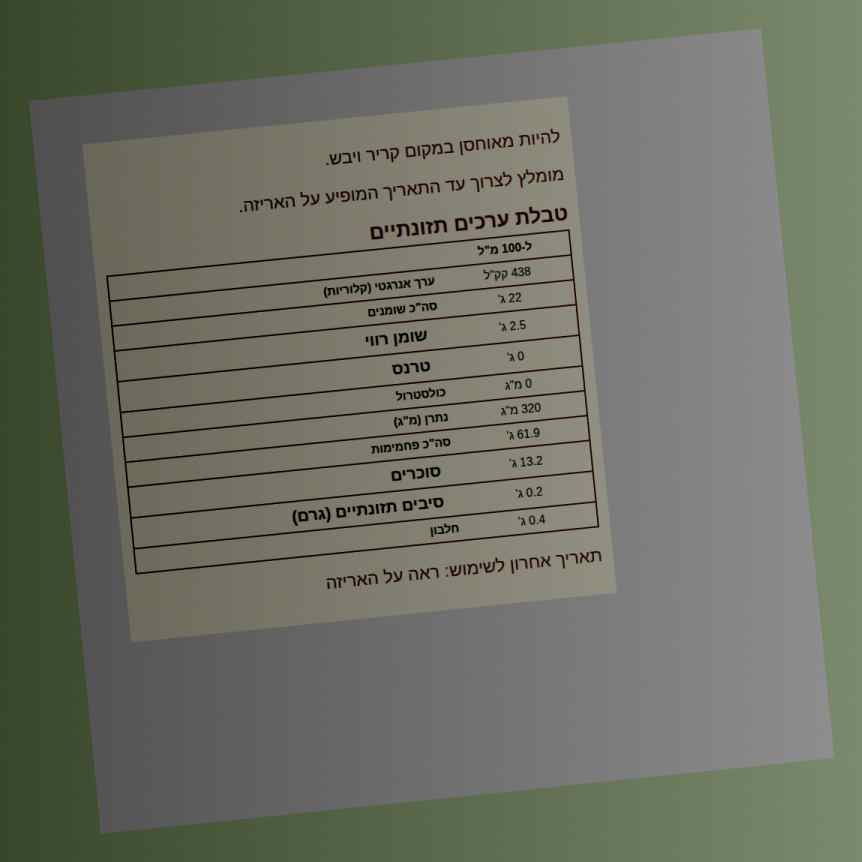carbs: (504, 424, 542, 444)
energy: (481, 263, 533, 284)
fat: (496, 289, 524, 307)
protein: (516, 511, 548, 530)
